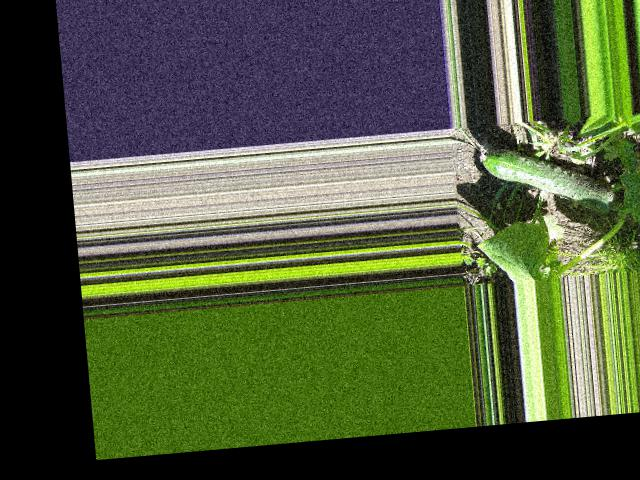cucumber: (480, 139, 618, 223)
